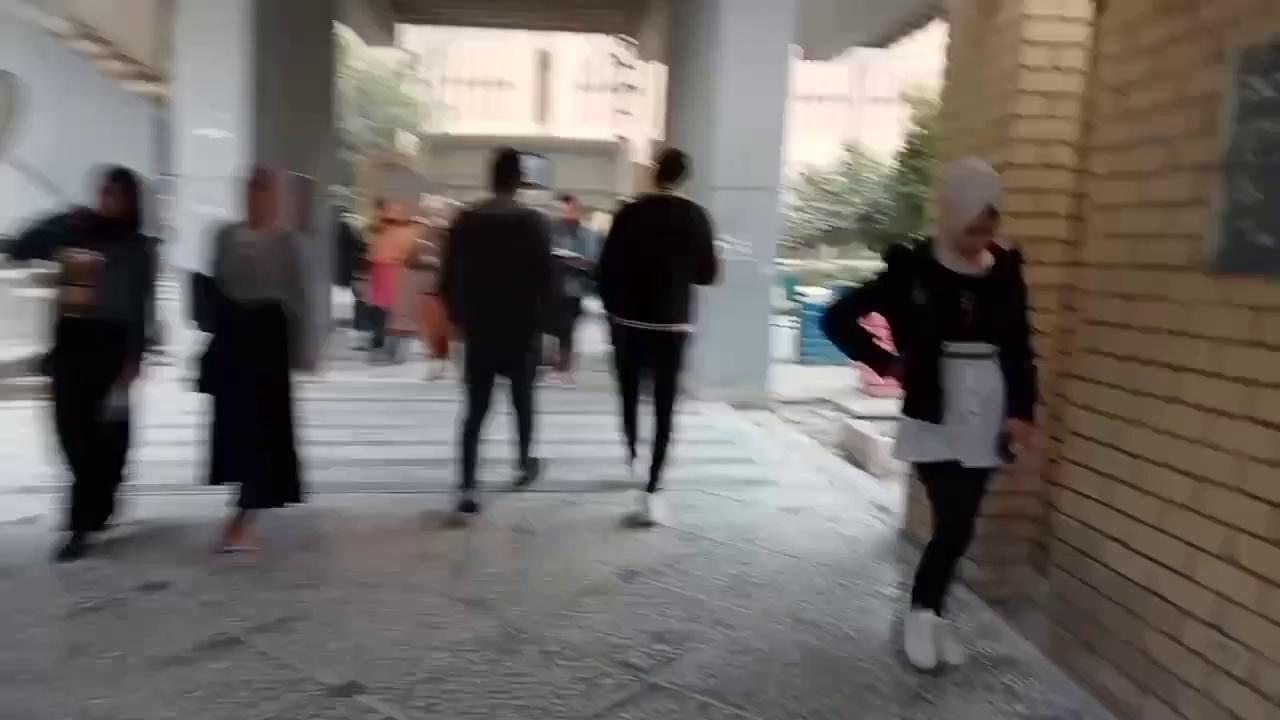person: (818, 155, 1040, 676), (5, 163, 163, 562), (194, 164, 320, 553), (436, 146, 554, 514), (594, 146, 719, 493), (543, 193, 604, 383)
tree: (779, 81, 942, 263), (330, 19, 454, 205), (857, 84, 942, 256), (779, 137, 896, 259)
